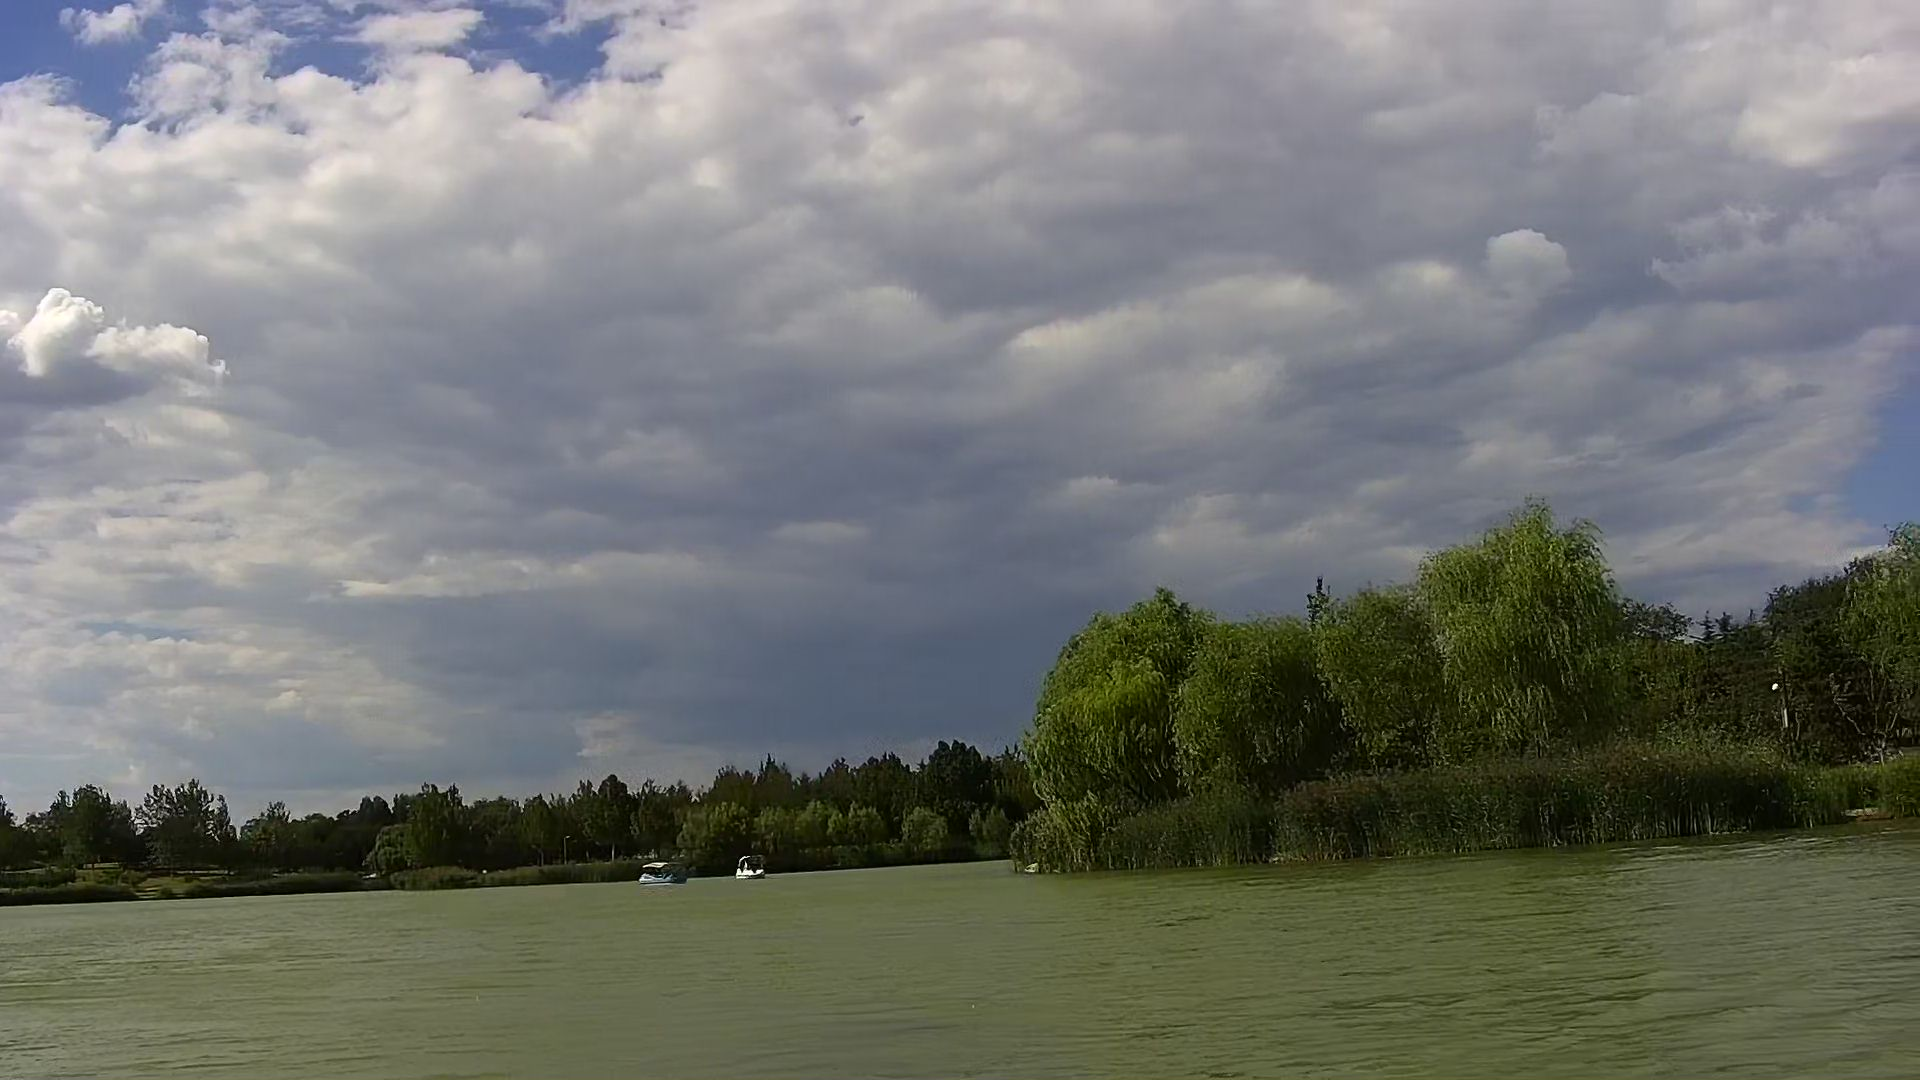boat: (634, 860, 688, 887), (731, 856, 769, 884)
